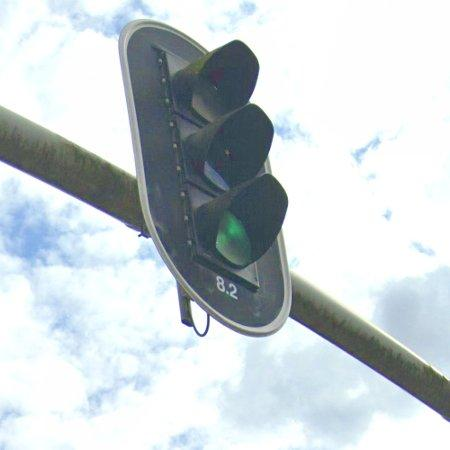traffic lights: (118, 17, 292, 339)
